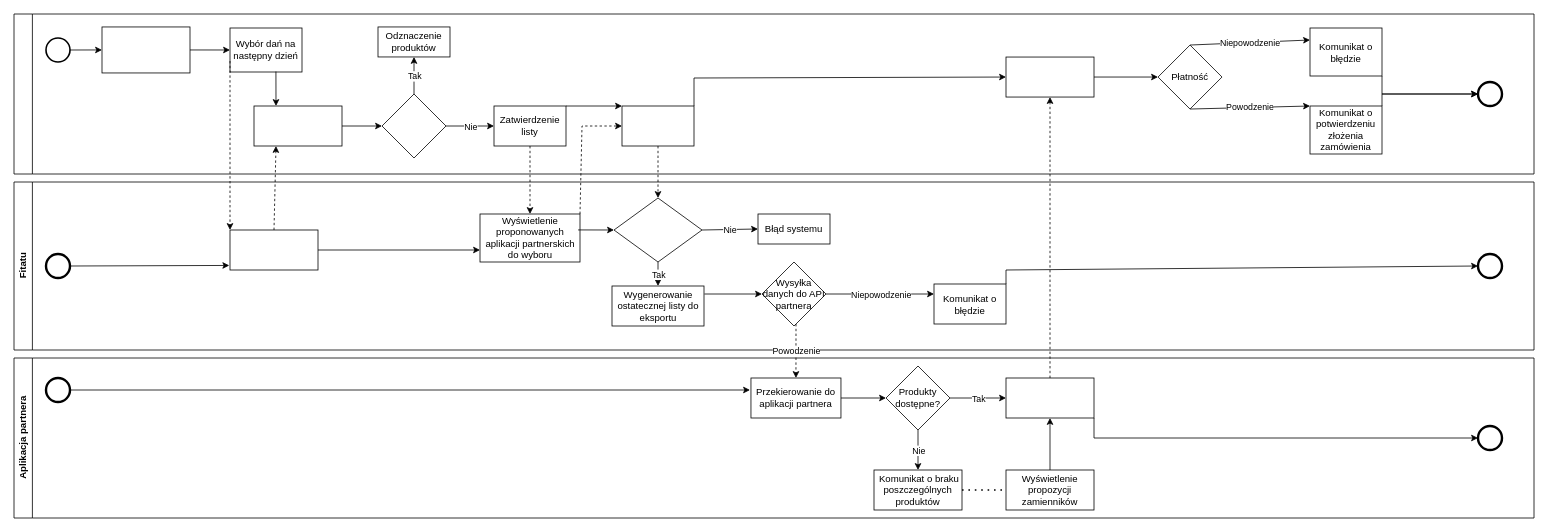
This 1548x532 diagram has some shape labels left out. Here are the shapes that lost their labels. From the top down, the box of each, then its label:
(101, 26, 190, 73): Uruchomienie/ Zalogowanie się do Fitatu
(13, 13, 1534, 174): Użytkownik
(1005, 56, 1094, 97): Zatwierdzenie zamówienia
(253, 105, 342, 146): Przegląd wygenerowanej listy
(381, 93, 446, 158): Produkty posiadane?
(621, 105, 694, 146): Wybór aplikacji partnera
(229, 229, 318, 270): Wygenerowanie listy zakupów
(613, 197, 702, 262): Aplikacja partnerska zainstalowana w telefonie?
(1005, 377, 1094, 418): Wygenerowanie koszyka z zakupami
